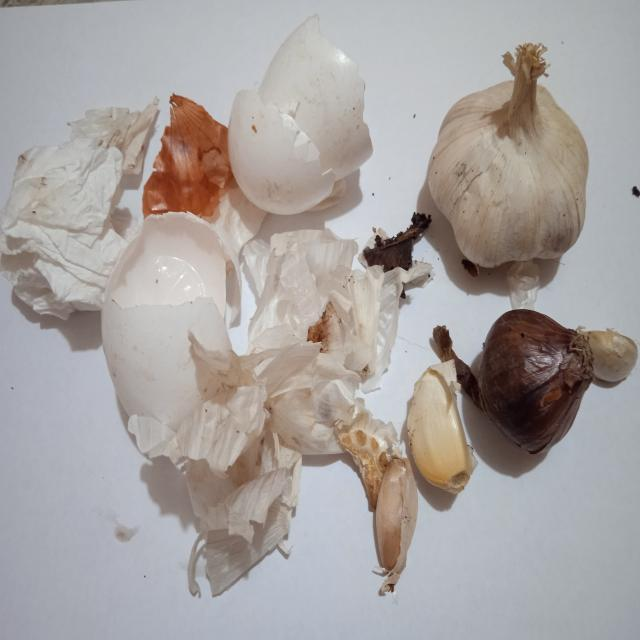egg shell: (100, 213, 242, 435), (226, 14, 374, 217)
